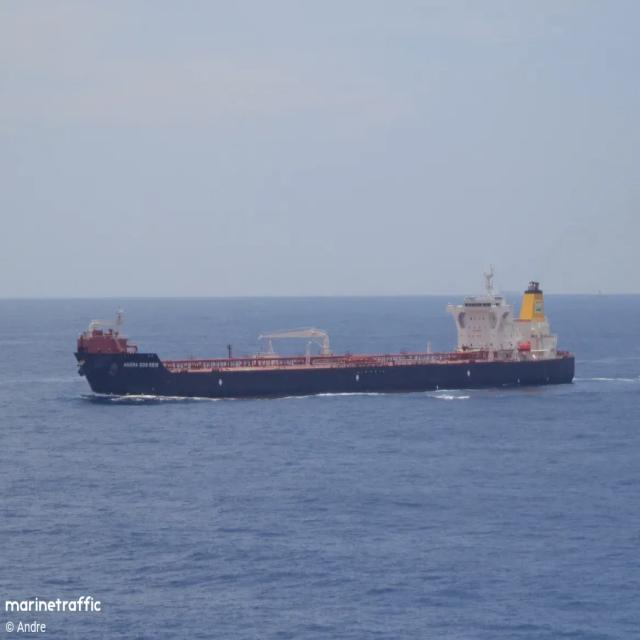Tanker: (74, 271, 574, 398)
